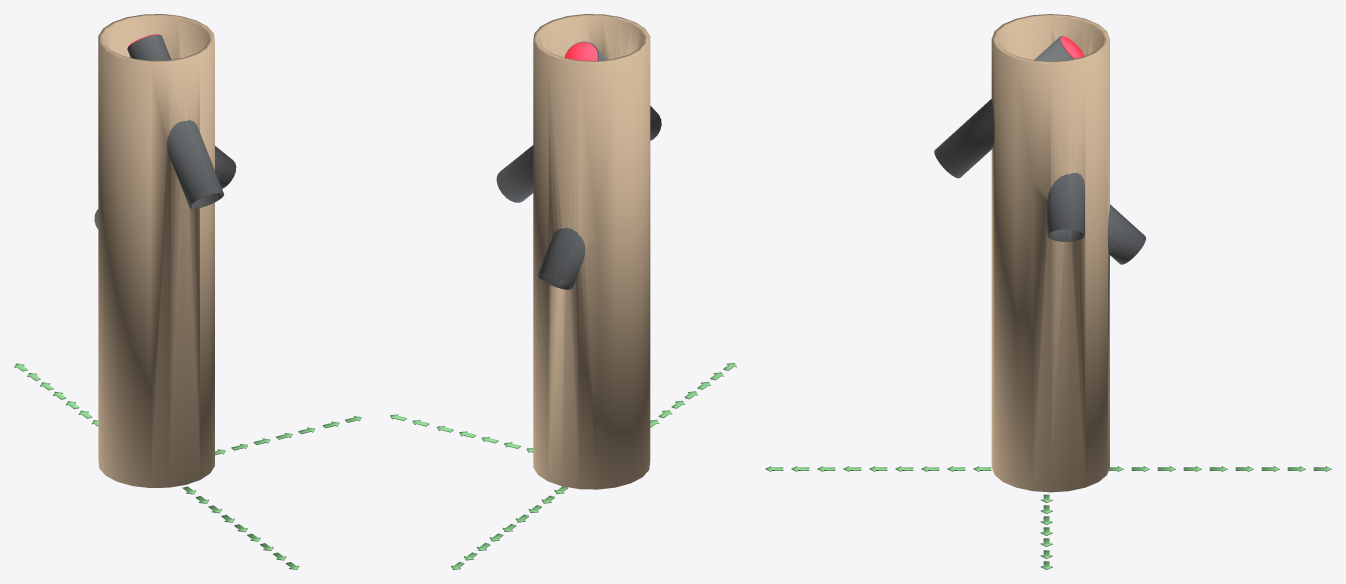
File: tinker13.gltf
3 renders of one model, left to right at view 1: azimuth 30°, elevation 25°; view 2: azimuth 150°, elevation 25°; view 3: azimuth 270°, elevation 25°, orthographic.
Visible parts, largest first — view 1: obj_0; view 2: obj_0; view 3: obj_0.
Part boxes in pixels (bbox=[...]): obj_0: bbox=[14, 14, 361, 569]; obj_0: bbox=[390, 14, 736, 569]; obj_0: bbox=[765, 14, 1331, 569].
Size of the model in its own units: 250 by 403 by 479.
